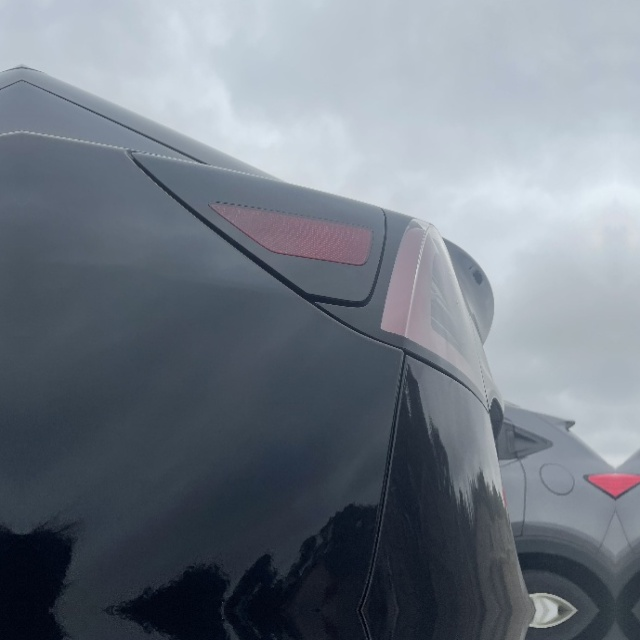reflector: (208, 202, 374, 264)
